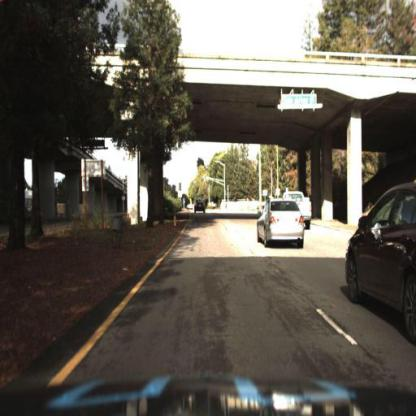car: (337, 180, 415, 320), (252, 196, 311, 248), (285, 188, 314, 224), (192, 196, 209, 212)
